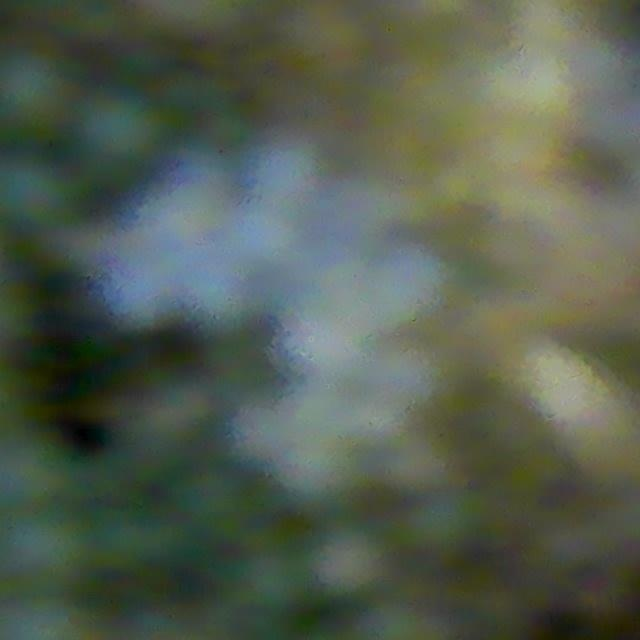SeaGrape: (4, 508, 93, 588), (79, 88, 163, 167), (307, 521, 387, 599), (0, 47, 70, 133), (406, 486, 484, 555), (0, 154, 70, 230), (364, 346, 437, 416), (234, 545, 305, 614), (137, 197, 192, 270), (294, 303, 358, 359), (243, 209, 301, 270), (328, 183, 386, 244), (264, 152, 319, 210), (191, 155, 243, 216), (373, 252, 428, 304), (116, 261, 161, 319), (191, 264, 233, 323), (240, 403, 279, 458), (283, 440, 321, 492), (343, 395, 385, 431), (277, 395, 315, 434)
